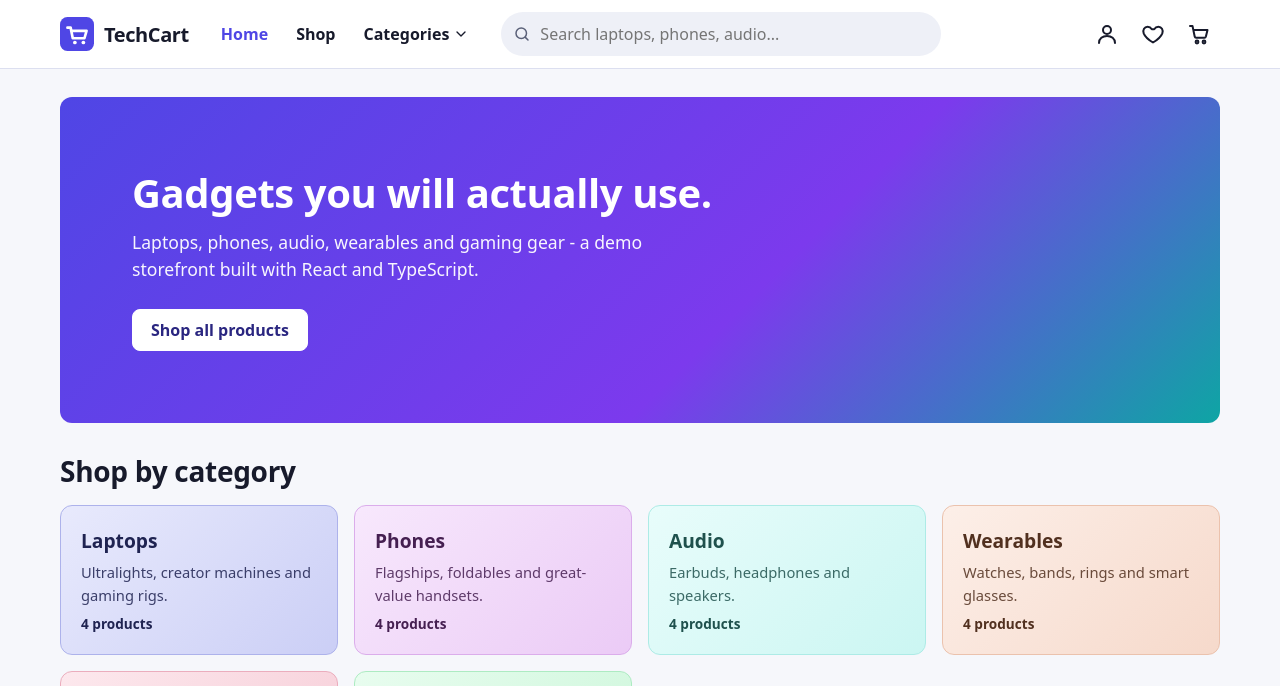
Test: SearchBar › wraps around the list with the arrow keys and can highlight "see all results"
This screenshot has width=1280, height=686.
In the dropdown named "Search products": (721, 34) [501,12,941,56], type "nimbus"
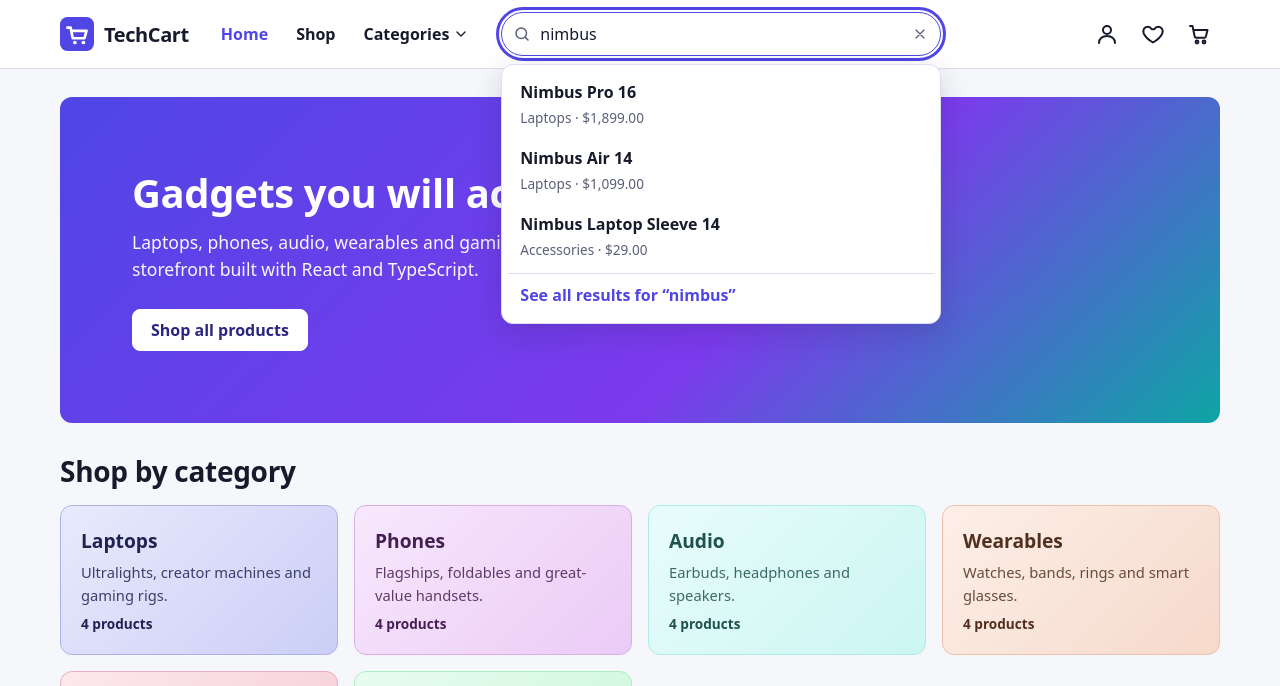
Press Arrowup
Press Enter
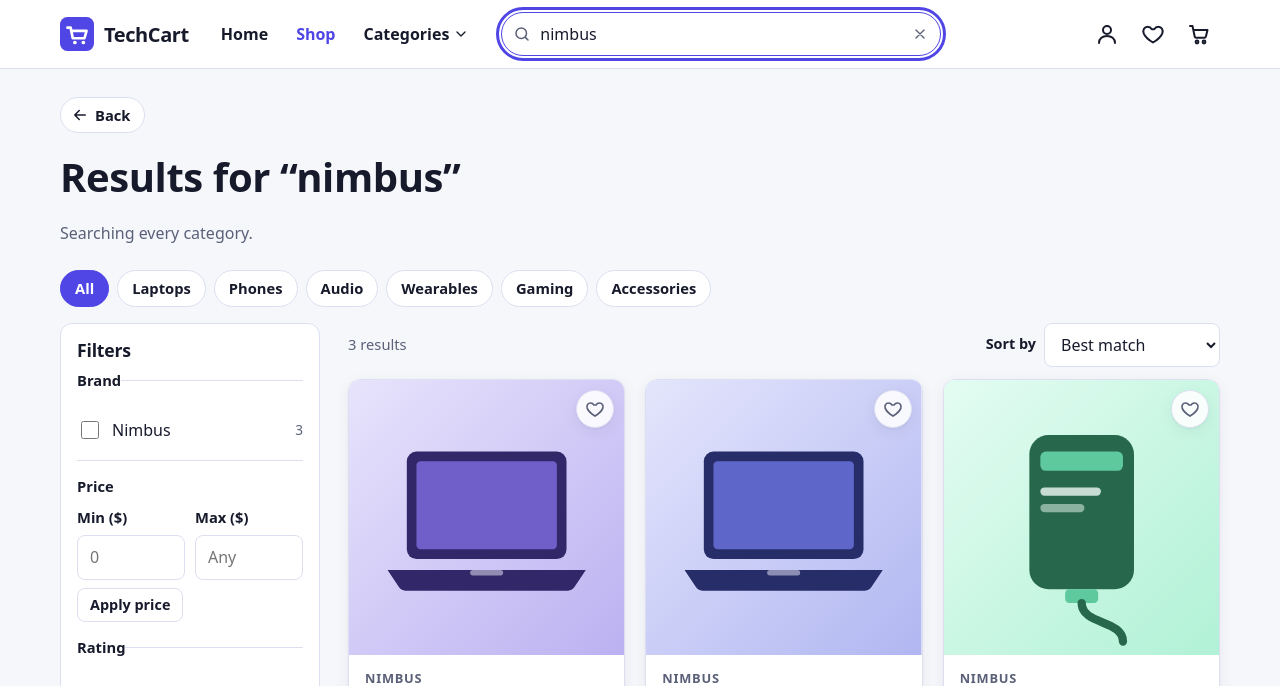
Now the heading "Results for “nimbus”" is shown, box [60,149,460,204]
